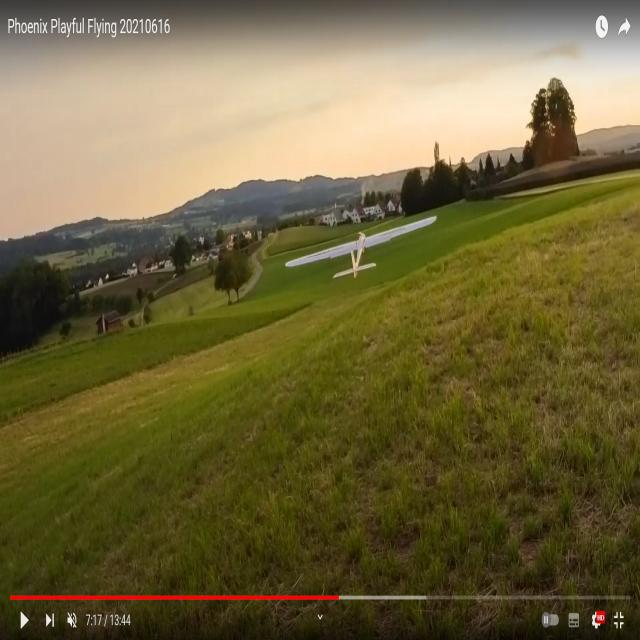iha: (284, 245, 436, 249)
